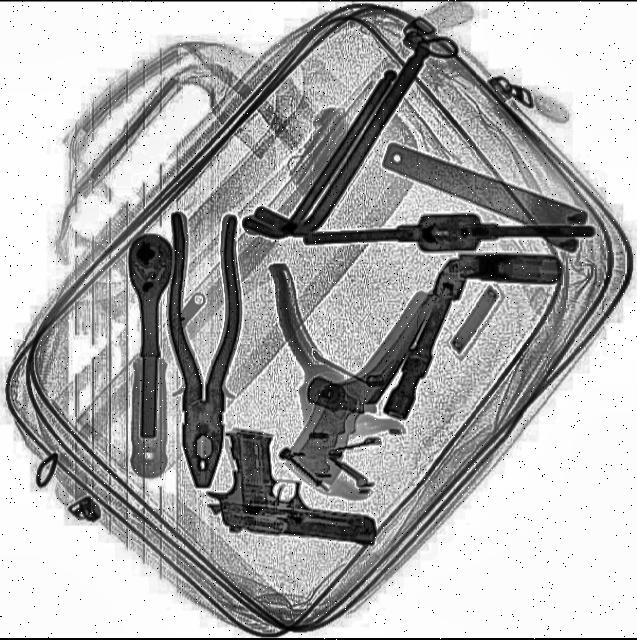Gun: (202, 423, 386, 548)
Pliers: (168, 213, 244, 487)
